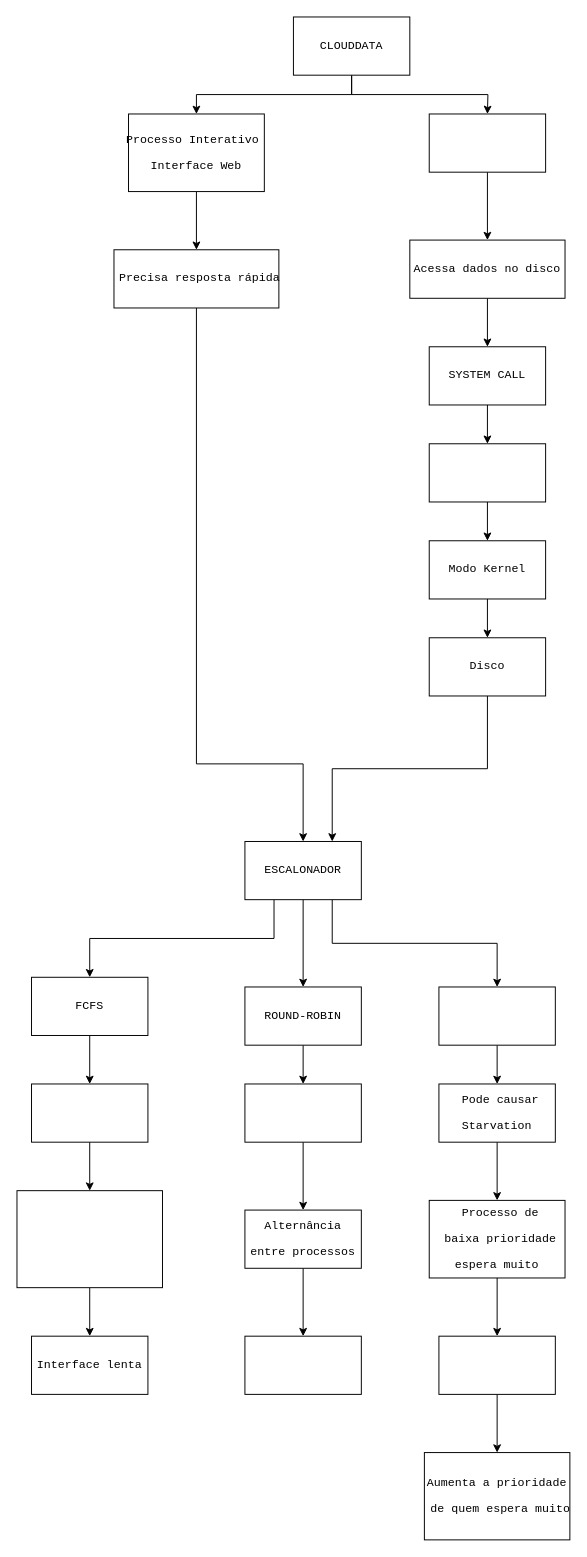
Image size: 587x1557. Some labels were removed from this diagram. The centre of each missing label's shape, as x and y in pixels:
"AGING" belongs at (496,1364).
"Melhor resposta da interface" belongs at (302,1364).
"Modo Usuário" belongs at (487,472).
"Não preemptivo Ordem de chegada" belongs at (89,1112).
"Preemptivo Quantum" belongs at (302,1112).
"PRIORIDADES" belongs at (496,1015).
"Processo Batch Relatório" belongs at (487,142).
"Processo longo pode atrasar processos rápidos" belongs at (89,1239).
